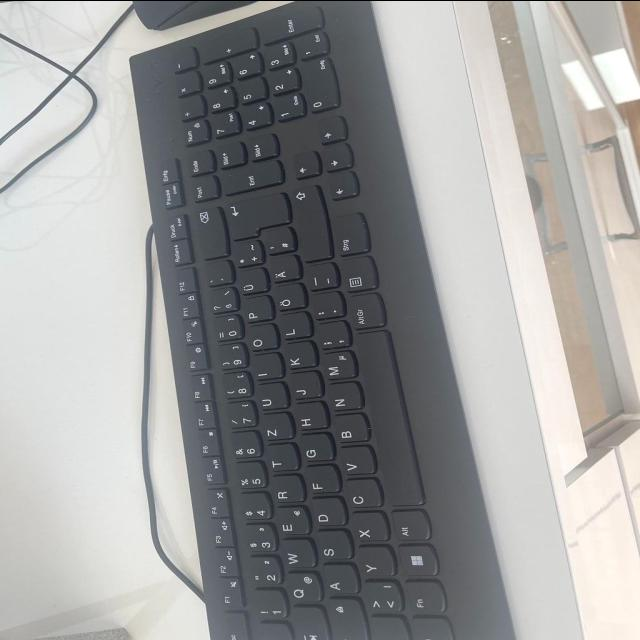0: (210, 316, 241, 344)
1: (251, 590, 285, 620)
2: (246, 557, 279, 587)
3: (240, 524, 274, 554)
4: (235, 494, 269, 522)
5: (232, 463, 265, 491)
6: (228, 432, 259, 460)
7: (223, 402, 255, 429)
8: (218, 373, 250, 401)
9: (215, 344, 245, 371)
a: (321, 564, 357, 596)
accent: (201, 262, 231, 288)
ae: (267, 255, 299, 283)
alt-left: (389, 511, 429, 543)
altgr-right: (345, 294, 383, 332)
b: (330, 414, 367, 444)
c: (342, 479, 381, 509)
caret: (255, 624, 290, 640)
comma: (314, 322, 350, 351)
d: (309, 498, 345, 528)
del: (193, 208, 226, 260)
e: (273, 508, 308, 537)
enter: (224, 194, 288, 240)
f: (304, 466, 338, 495)
g: (298, 434, 332, 464)
h: (293, 402, 326, 432)
hash: (260, 228, 294, 256)
i: (249, 354, 281, 381)
j: (287, 373, 321, 401)
k: (282, 342, 315, 370)
keyboard: (123, 0, 470, 640)
l: (276, 314, 310, 340)
less: (359, 581, 401, 615)
m: (319, 351, 355, 381)
minus: (302, 264, 336, 292)
n: (325, 383, 361, 412)
o: (245, 325, 277, 352)
oe: (271, 284, 305, 311)
p: (239, 297, 271, 324)
plus: (229, 241, 262, 269)
point: (308, 292, 343, 321)
q: (283, 572, 320, 604)
r: (269, 475, 303, 505)
s: (315, 531, 351, 561)
shift-left: (368, 617, 408, 640)
shift-lock: (325, 599, 365, 640)
shift-right: (290, 187, 328, 264)
space: (352, 331, 422, 509)
ss: (206, 289, 236, 315)
strg-left: (410, 618, 453, 640)
strg-right: (331, 213, 367, 258)
t: (263, 444, 297, 472)
tab: (289, 607, 328, 640)
u: (255, 383, 287, 411)
ue: (235, 268, 266, 296)
v: (336, 446, 374, 476)
w: (278, 540, 313, 570)
x: (349, 513, 387, 543)
y: (355, 546, 393, 578)
z: (260, 413, 292, 441)
